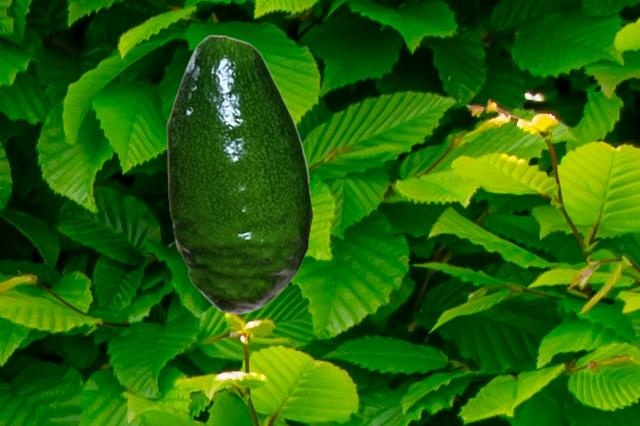avocado: (166, 34, 312, 313)
